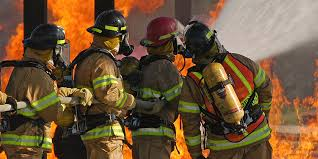emergent: (182, 22, 275, 159), (74, 10, 133, 159), (5, 24, 64, 157), (129, 16, 185, 156)
